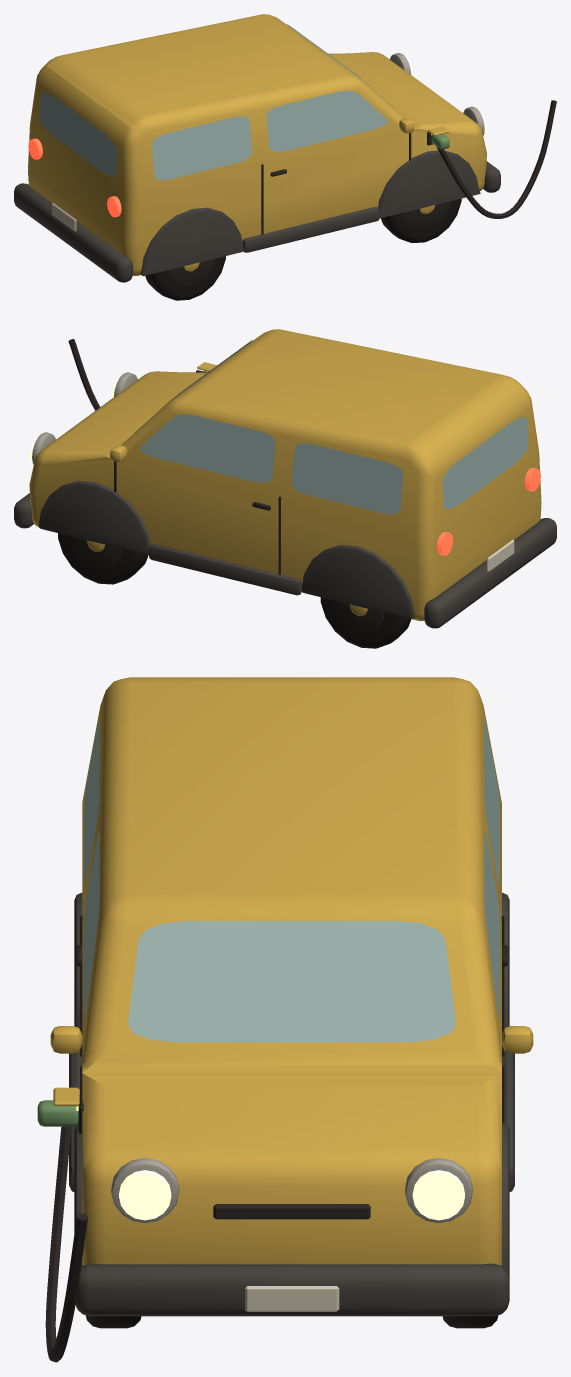
File: mini_ev.glb
The picture shows the model from 3 angles, top to bottom: view 1: azimuth 30°, elevation 25°; view 2: azimuth 150°, elevation 25°; view 3: azimuth 270°, elevation 25°; orthographic projection. The views are drawn at different scales.
Visible parts, largest first — view 1: MiniEV, MiniEV_Wheel_RR, MiniEV_Wheel_FR, MiniEV_ChargeCable; view 2: MiniEV, MiniEV_Wheel_RL, MiniEV_Wheel_FL, MiniEV_ChargeCable; view 3: MiniEV, MiniEV_ChargeCable.
Boxes of the visible parts, x1=… form: MiniEV: x1=14, y1=14, x2=500, y2=282; MiniEV_Wheel_RR: x1=145, y1=256, x2=225, y2=300; MiniEV_Wheel_FR: x1=381, y1=198, x2=461, y2=242; MiniEV_ChargeCable: x1=431, y1=100, x2=556, y2=218; MiniEV: x1=14, y1=329, x2=556, y2=628; MiniEV_Wheel_RL: x1=320, y1=597, x2=411, y2=648; MiniEV_Wheel_FL: x1=58, y1=533, x2=148, y2=584; MiniEV_ChargeCable: x1=68, y1=339, x2=208, y2=410; MiniEV: x1=50, y1=677, x2=533, y2=1316; MiniEV_ChargeCable: x1=37, y1=1100, x2=87, y2=1362.
Bounding box in the file's own units: 3.88 × 1.58 × 1.89.
